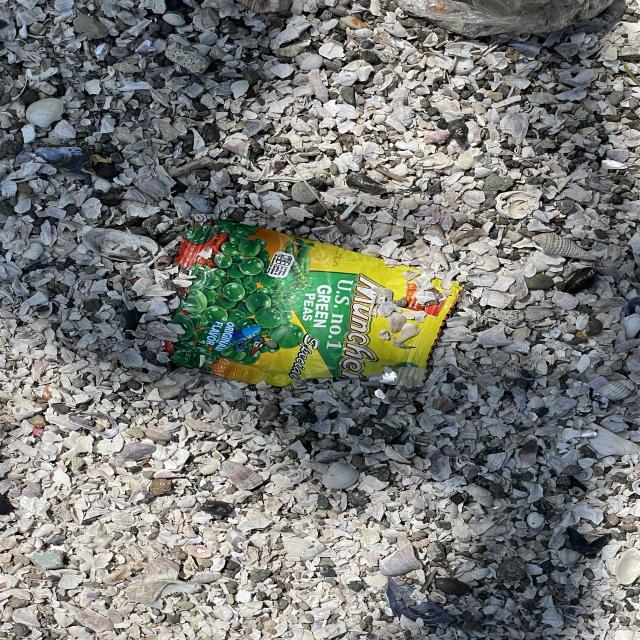plastic_waste: (159, 219, 461, 391)
